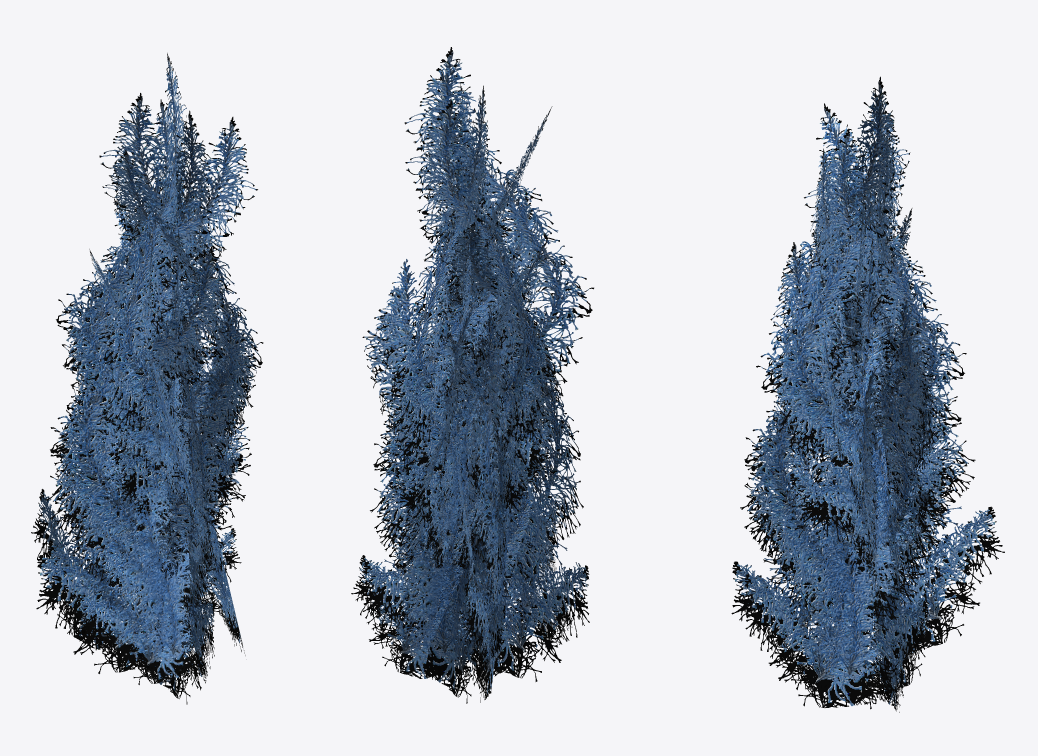
Rendered from vege_magique2_2.FBX.
3 renders of one model, left to right at view 1: azimuth 30°, elevation 25°; view 2: azimuth 150°, elevation 25°; view 3: azimuth 270°, elevation 25°, orthographic. The views are drawn at different scales.
Parts seen in each view (by area): view 1: Plane453; view 2: Plane453; view 3: Plane453.
Boxes of the visible parts, x1,y1,x2,y2 form: Plane453: (31, 53, 263, 704); Plane453: (351, 47, 593, 703); Plane453: (731, 76, 1004, 712).
Bounding box in the file's own units: 153 × 403 × 190.
